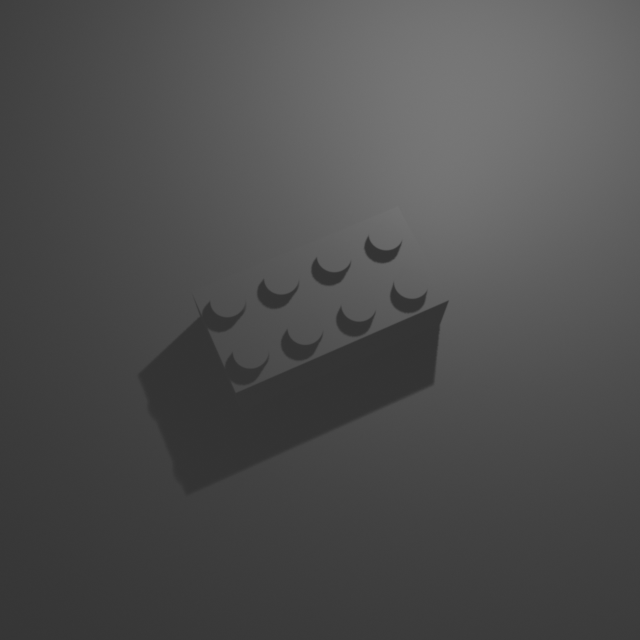lego_2x4: (190, 201, 451, 411)
